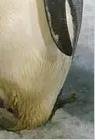Emperor Penguin: (0, 0, 88, 134)
